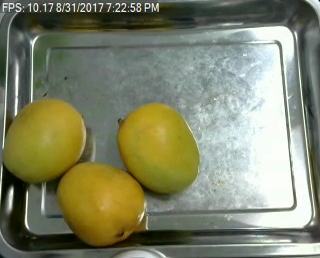Mango: (116, 103, 201, 193), (0, 98, 86, 183), (54, 164, 145, 244)
